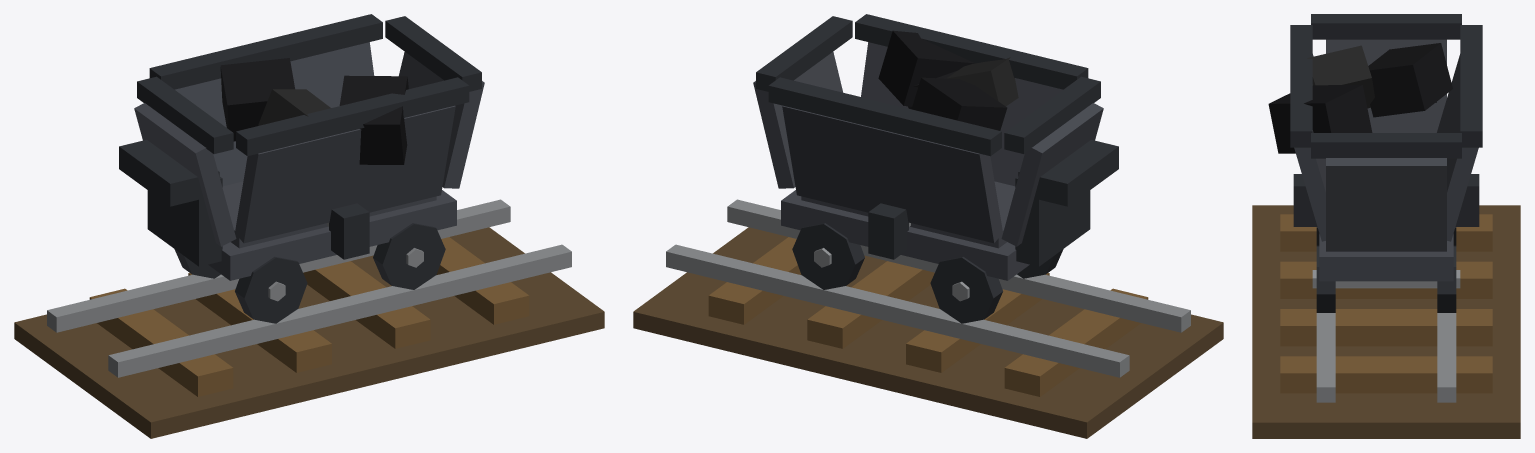
File: ore_cart.glb
3 views of the same model, side by side, from view 1: azimuth 30°, elevation 25°; view 2: azimuth 150°, elevation 25°; view 3: azimuth 270°, elevation 25° (orthographic).
Parts seen in each view (by area): view 1: Cube, Cube.009, Cube.005, Cube.006, Cube.013, Cube.015, Cube.007, Cube.010, Cube.001, Cube.011, Cube.003, Cube.022 (+13 smaller); view 2: Cube, Cube.010, Cube.006, Cube.005, Cube.015, Cube.007, Cube.013, Cube.001, Cube.011, Cube.003, Cube.009, Cube.022 (+13 smaller); view 3: Cube, Cube.012, Cube.003, Cube.004, Cube.023, Cube.007, Cube.014, Cube.016, Cube.002, Cube.022, Cube.011, Cube.015 (+12 smaller).
Boxes of the visible parts, left/top/right/bottom form: Cube: left=14, top=227, right=604, bottom=438; Cube.009: left=235, top=105, right=455, bottom=243; Cube.005: left=108, top=244, right=571, bottom=377; Cube.006: left=47, top=199, right=510, bottom=332; Cube.013: left=236, top=77, right=469, bottom=156; Cube.015: left=149, top=14, right=382, bottom=89; Cube.007: left=208, top=190, right=456, bottom=280; Cube.010: left=175, top=42, right=374, bottom=186; Cube.001: left=89, top=288, right=233, bottom=396; Cube.011: left=134, top=103, right=236, bottom=246; Cube.003: left=303, top=261, right=430, bottom=348; Cube.022: left=339, top=75, right=408, bottom=164; Cube: left=633, top=227, right=1223, bottom=438; Cube.010: left=782, top=105, right=1002, bottom=243; Cube.006: left=666, top=244, right=1129, bottom=377; Cube.005: left=727, top=199, right=1190, bottom=332; Cube.015: left=768, top=77, right=1001, bottom=156; Cube.007: left=781, top=190, right=1029, bottom=280; Cube.013: left=855, top=14, right=1088, bottom=89; Cube.001: left=1004, top=288, right=1148, bottom=396; Cube.011: left=1001, top=103, right=1103, bottom=246; Cube.003: left=807, top=261, right=934, bottom=348; Cube.009: left=861, top=42, right=1062, bottom=186; Cube.022: left=878, top=30, right=974, bottom=106; Cube: left=1252, top=205, right=1520, bottom=438; Cube.012: left=1326, top=158, right=1446, bottom=251; Cube.003: left=1280, top=309, right=1492, bottom=346; Cube.004: left=1280, top=356, right=1492, bottom=393; Cube.023: left=1368, top=43, right=1452, bottom=117; Cube.007: left=1319, top=234, right=1453, bottom=281; Cube.014: left=1311, top=14, right=1461, bottom=39; Cube.016: left=1311, top=133, right=1461, bottom=158; Cube.002: left=1280, top=261, right=1492, bottom=298; Cube.022: left=1268, top=85, right=1372, bottom=153; Cube.011: left=1326, top=39, right=1446, bottom=132; Cube.015: left=1460, top=25, right=1482, bottom=147.
Size of the model in its own units: 46 by 25.89 by 24.
